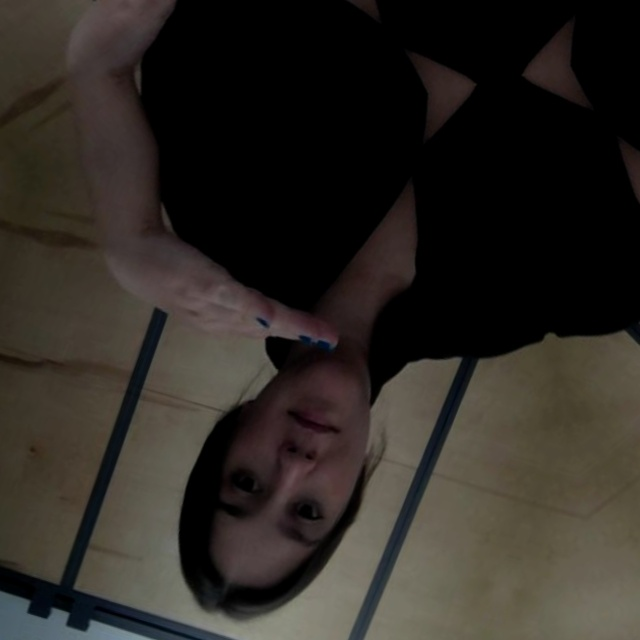Paper: (19, 0, 309, 108)
